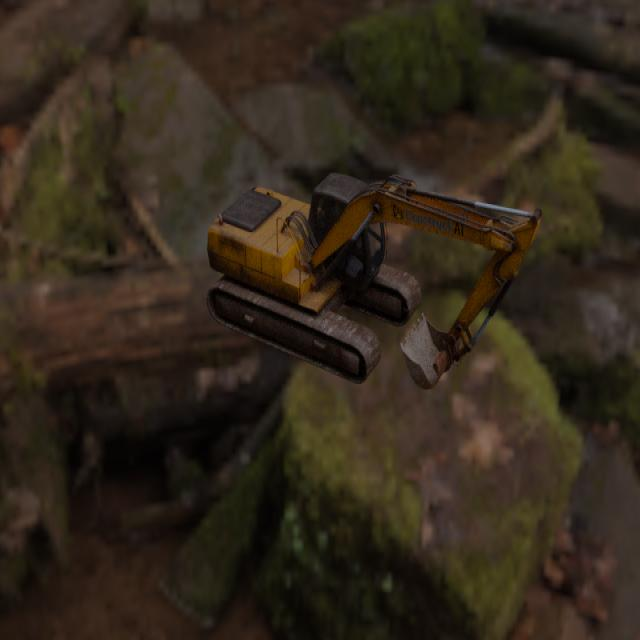excavator: (205, 172, 542, 389)
